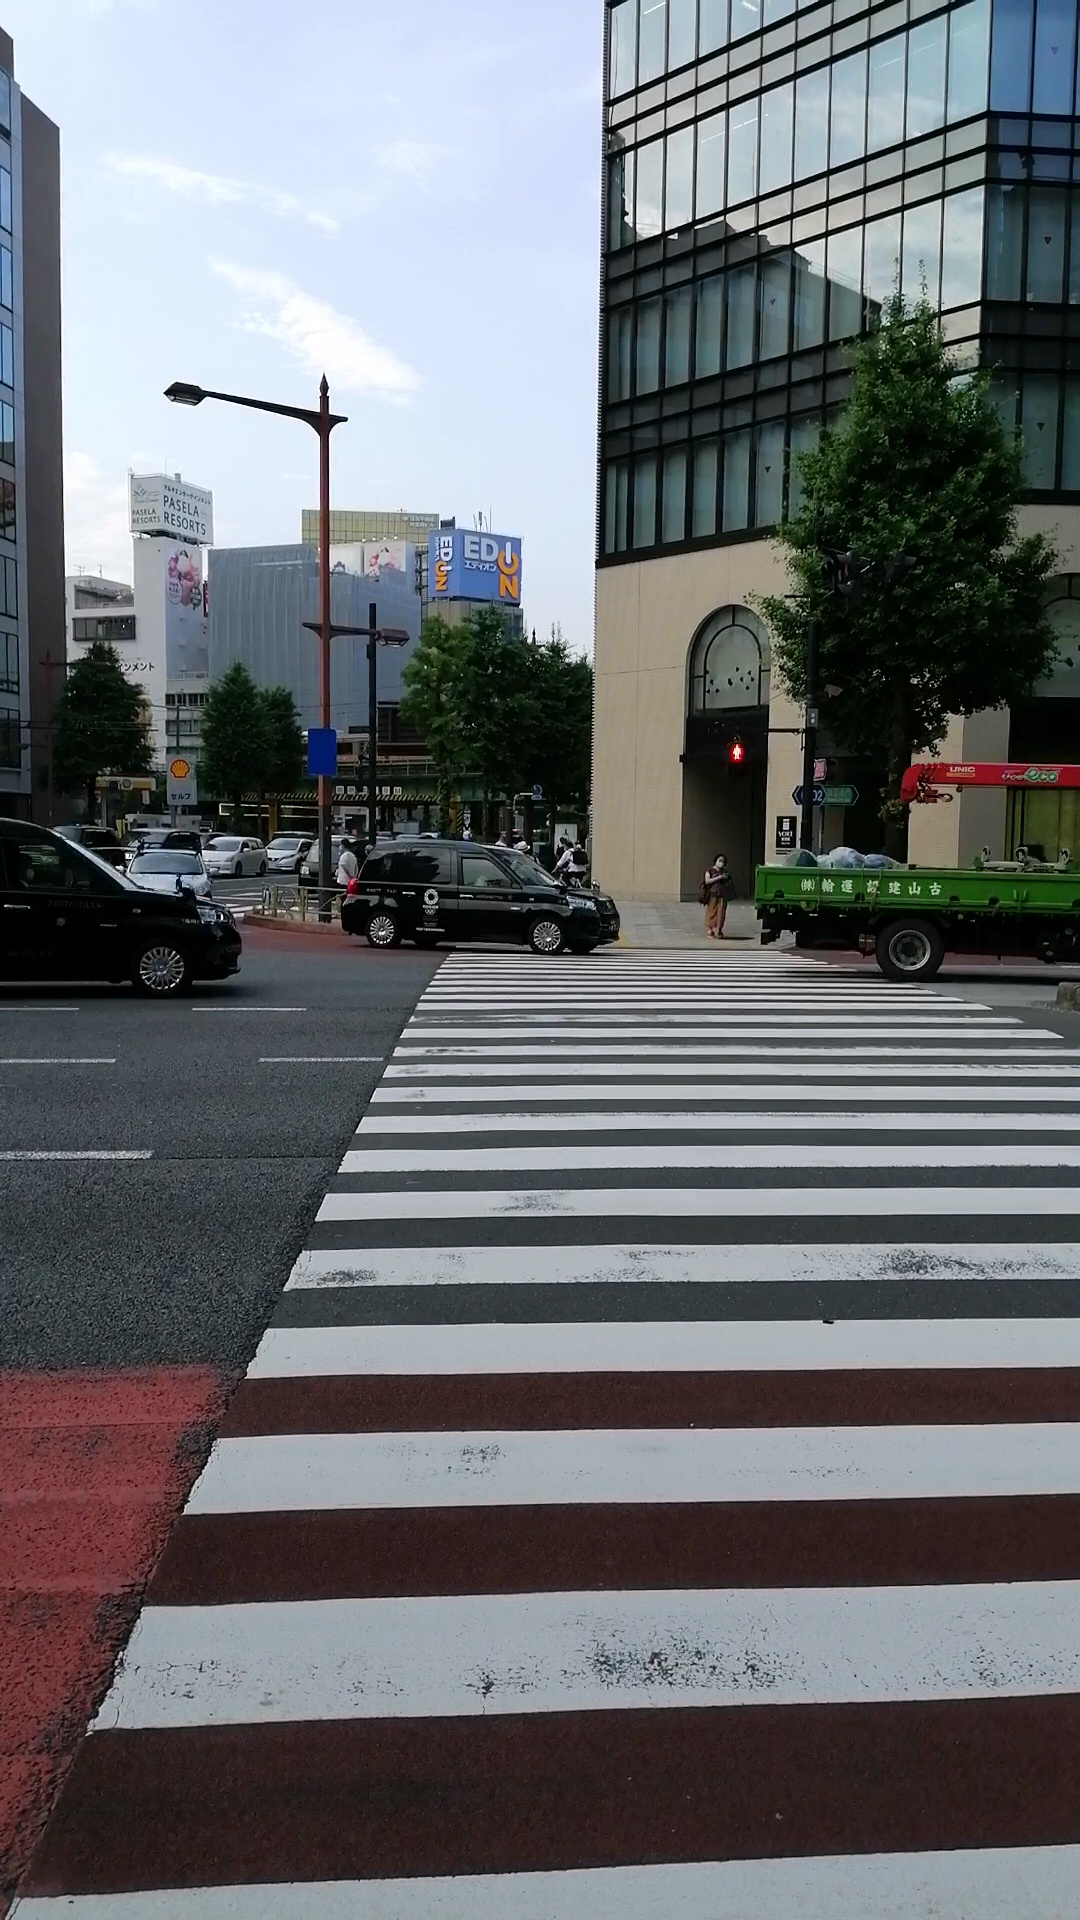red: (723, 736, 749, 785)
